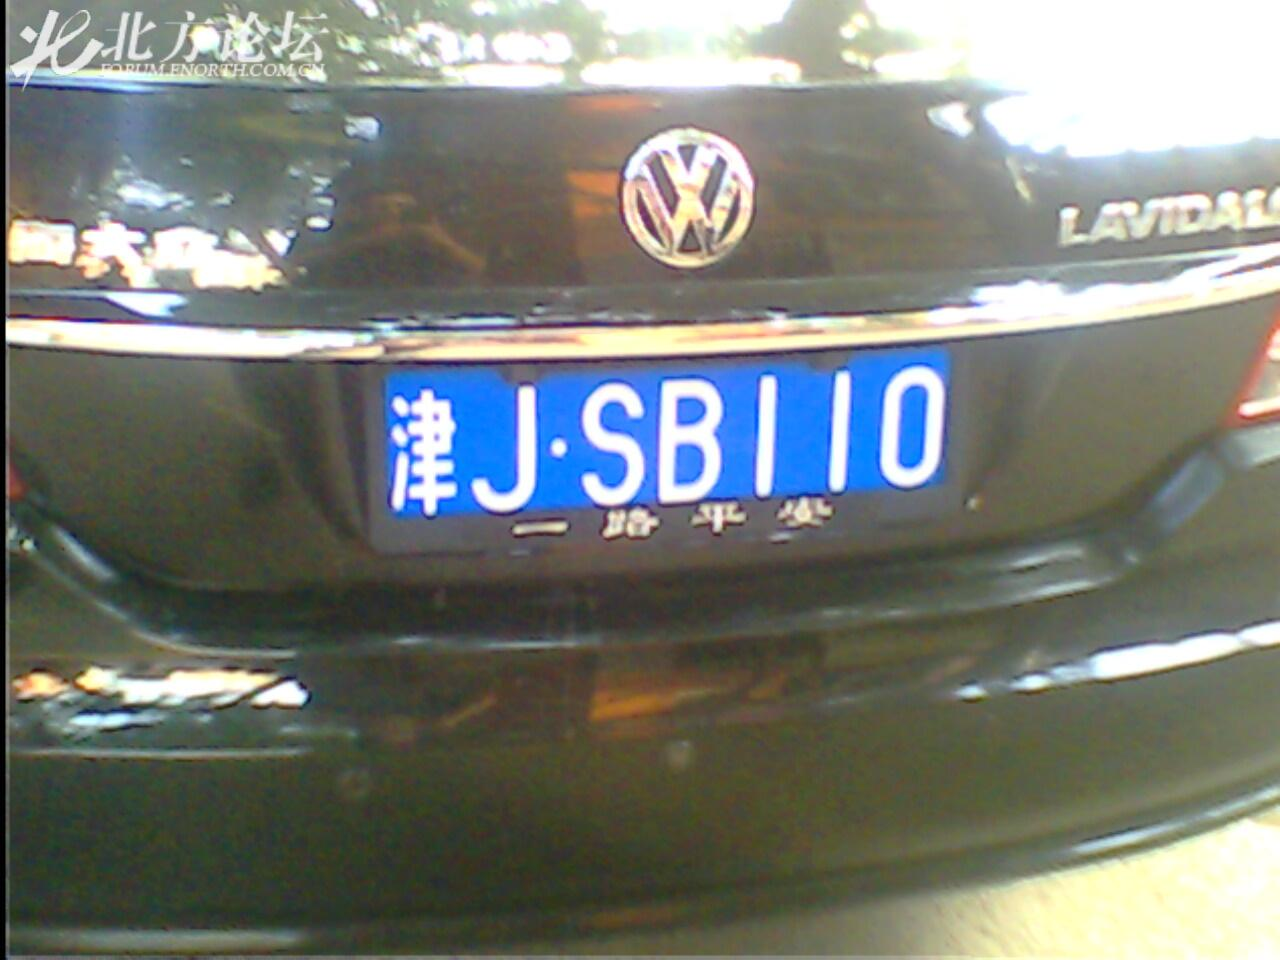plate_number: (385, 355, 959, 529)
